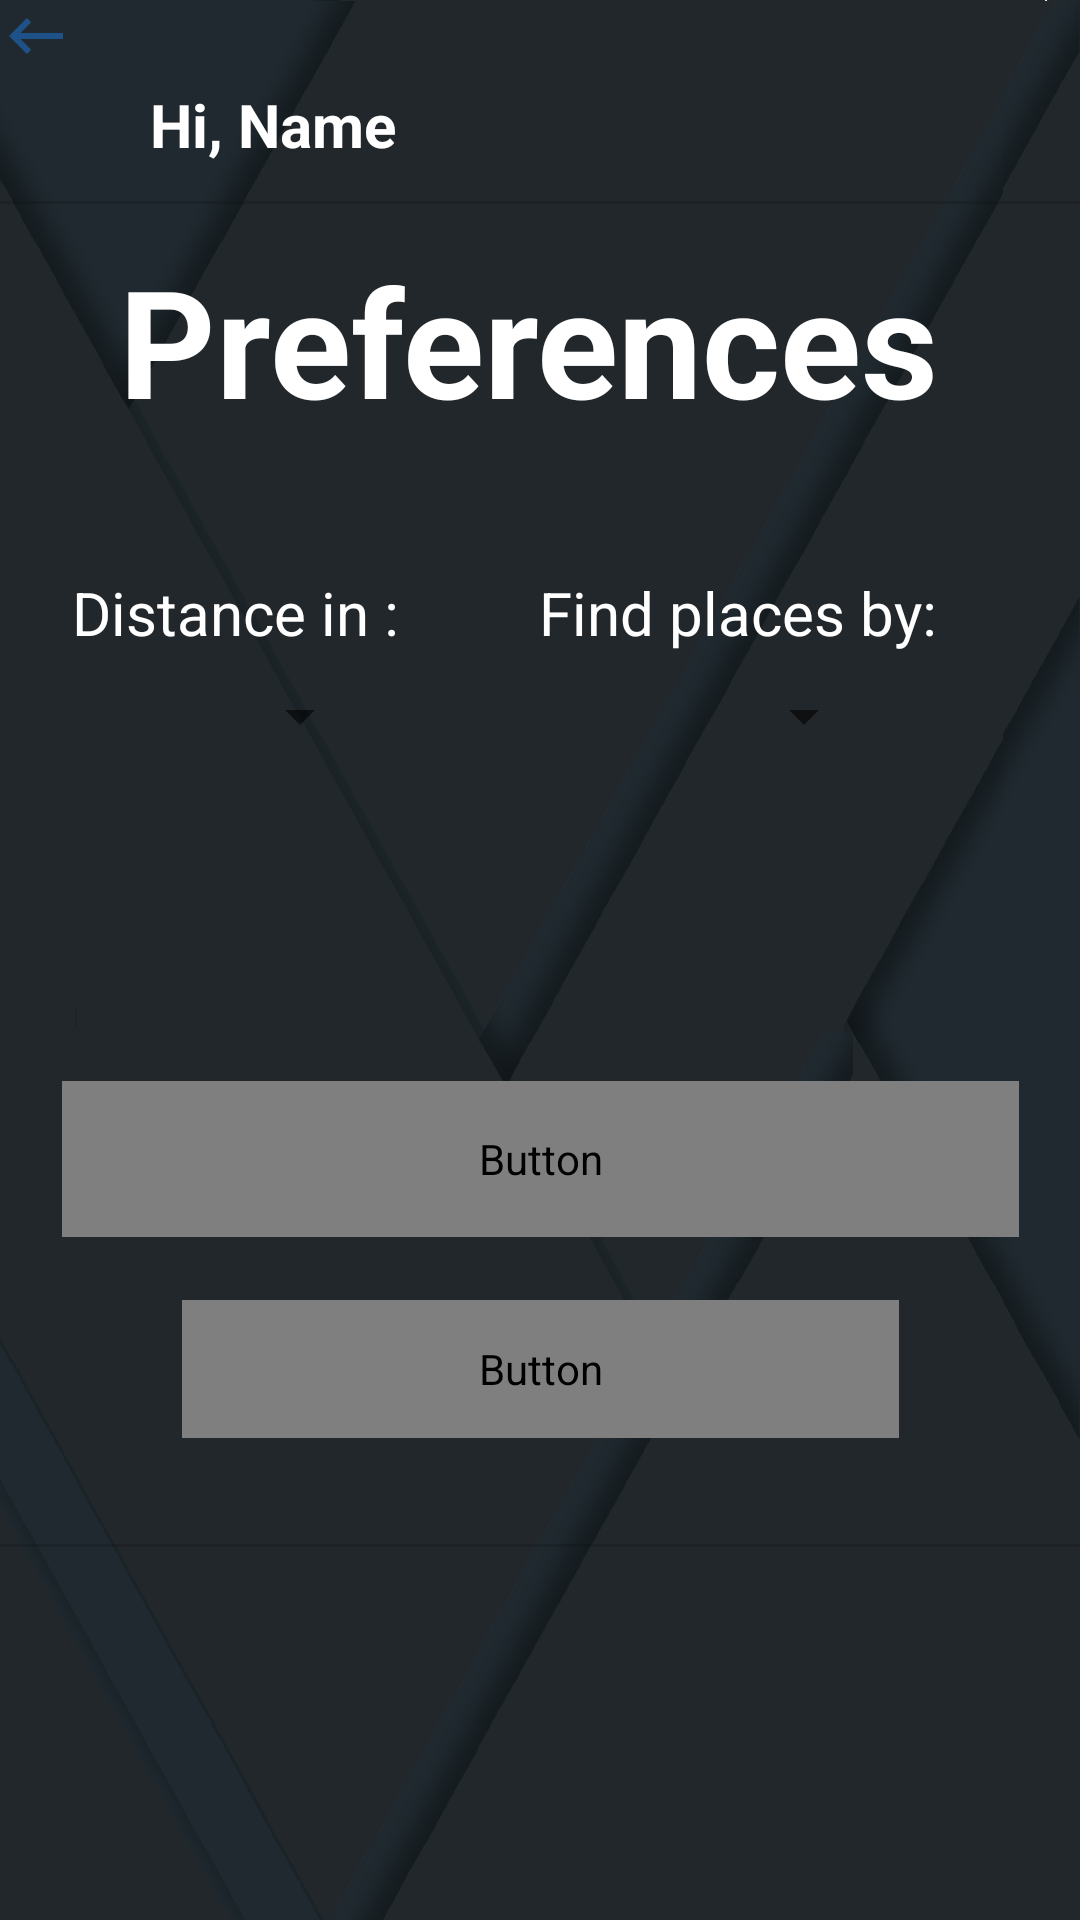

Icons on this 1080*1920 Android screen, each with the point to tap as (x=x, y=y):
back: (x=36, y=36)
